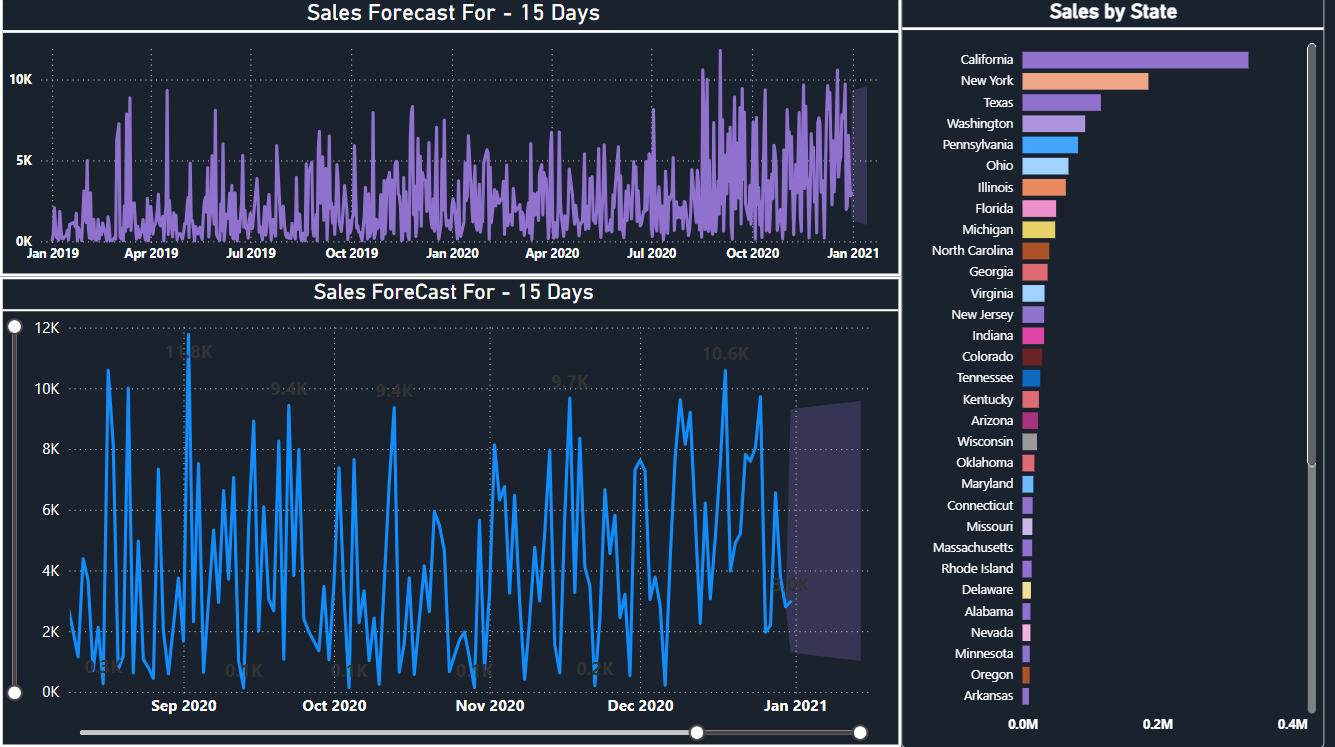

This screenshot's page, from the dashboard's own definition file:
{"tool":"powerbi","page":{"name":"Page 2","canvas":[1280,720],"ordinal":1},"visuals":[{"type":"lineChart","title":"Sales Forecast For - 15 Days","fields":{"Y":["Sum(SuperStore_Sales_Dataset.Sales)"],"Category":["SuperStore_Sales_Dataset.Order Date"]},"box":[0,0,864.3,268.9],"z":0},{"type":"lineChart","title":"Sales ForeCast For - 15 Days","fields":{"Y":["Sum(SuperStore_Sales_Dataset.Sales)"],"Category":["SuperStore_Sales_Dataset.Order Date"]},"box":[0,268.9,864.3,451.6],"z":1000},{"type":"barChart","title":"Sales by State","fields":{"Category":["SuperStore_Sales_Dataset.State"],"Y":["Sum(SuperStore_Sales_Dataset.Sales)"]},"box":[864.3,0,405.5,720.5],"z":2000}]}

Visuals, with their boxes in screenshot pixels (x1, y1, x2, y2), scaled from the page's 1280x720 canvas onto the 1335x747 screenshot:
"Sales Forecast For - 15 Days" lineChart: <bbox>0, 0, 901, 279</bbox>
"Sales ForeCast For - 15 Days" lineChart: <bbox>0, 279, 901, 746</bbox>
"Sales by State" barChart: <bbox>901, 0, 1324, 746</bbox>
